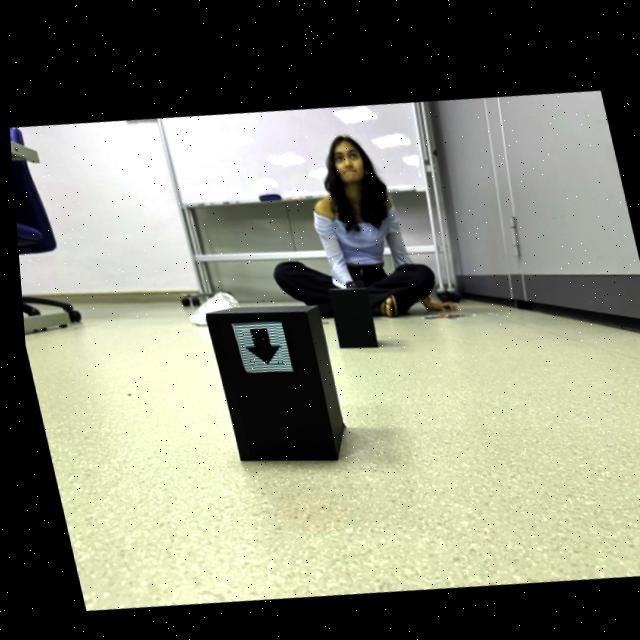DOWN: (241, 324, 276, 360)
